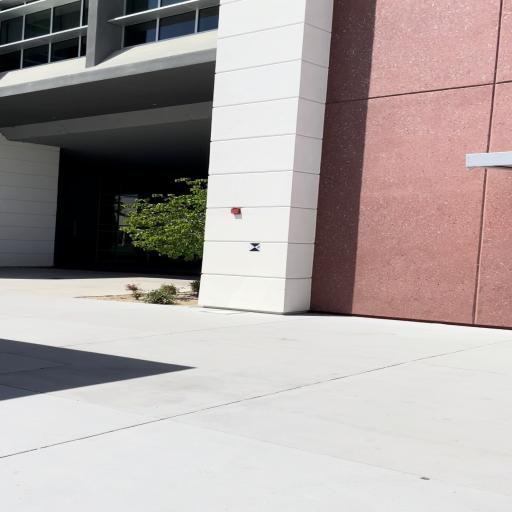target2: (248, 243, 262, 251)
